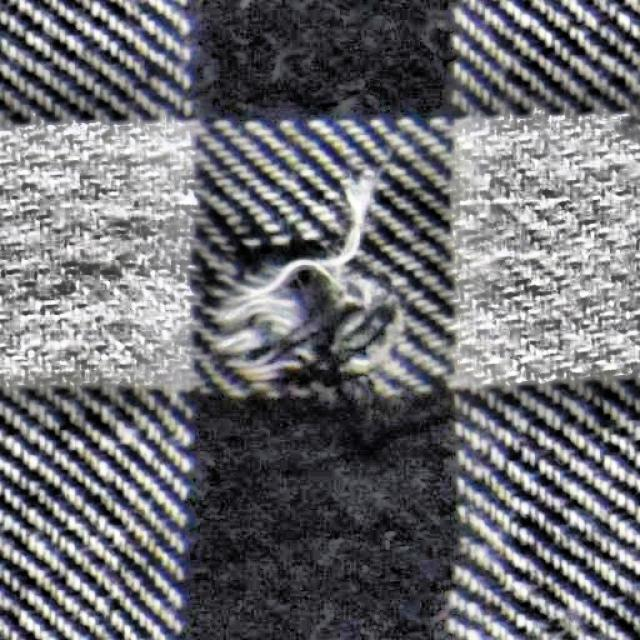gray stitch: (162, 193, 468, 466)
